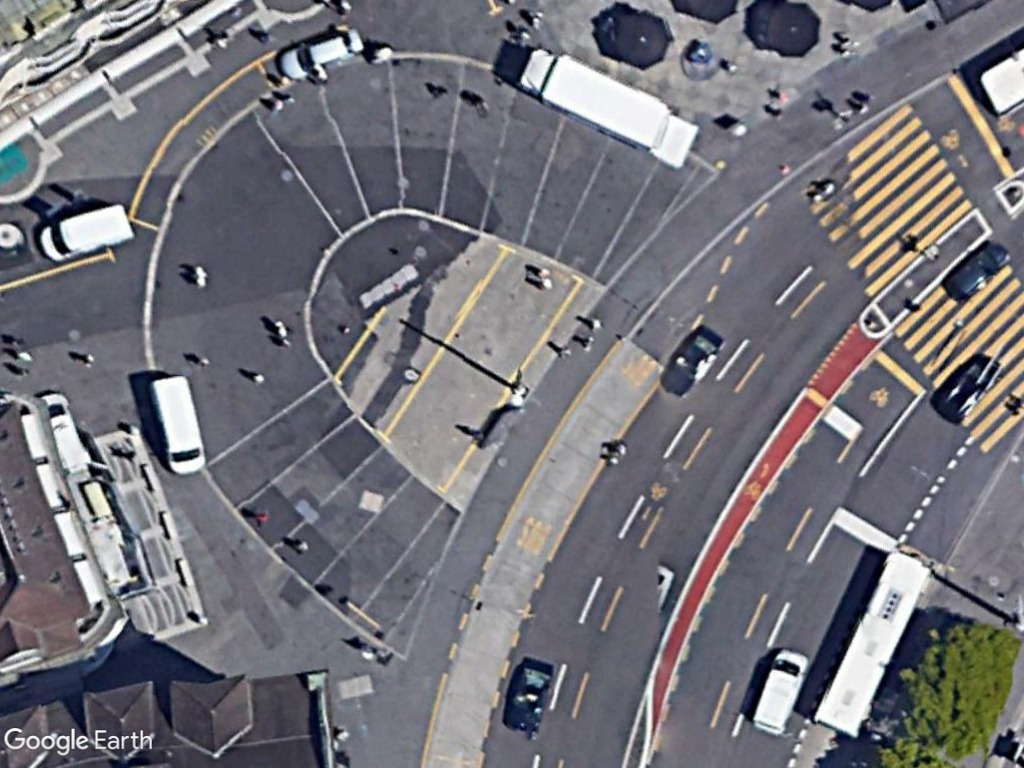bus: (808, 549, 932, 743)
car: (277, 26, 364, 82)
truck: (514, 42, 672, 152)
van: (145, 372, 209, 478), (38, 198, 135, 263), (749, 646, 812, 736)
